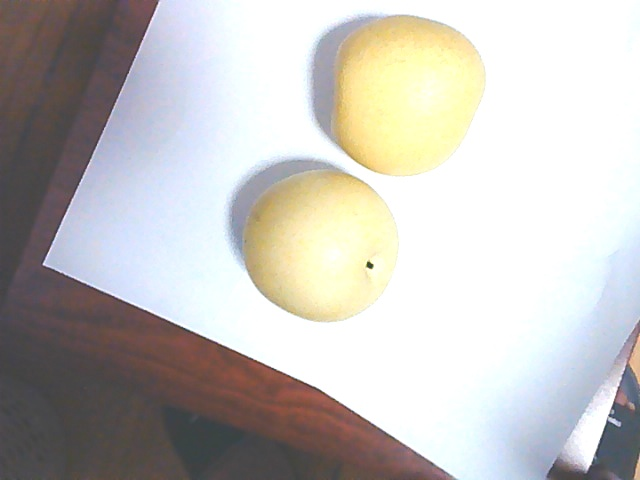pear: (324, 16, 485, 172), (243, 164, 401, 314)
